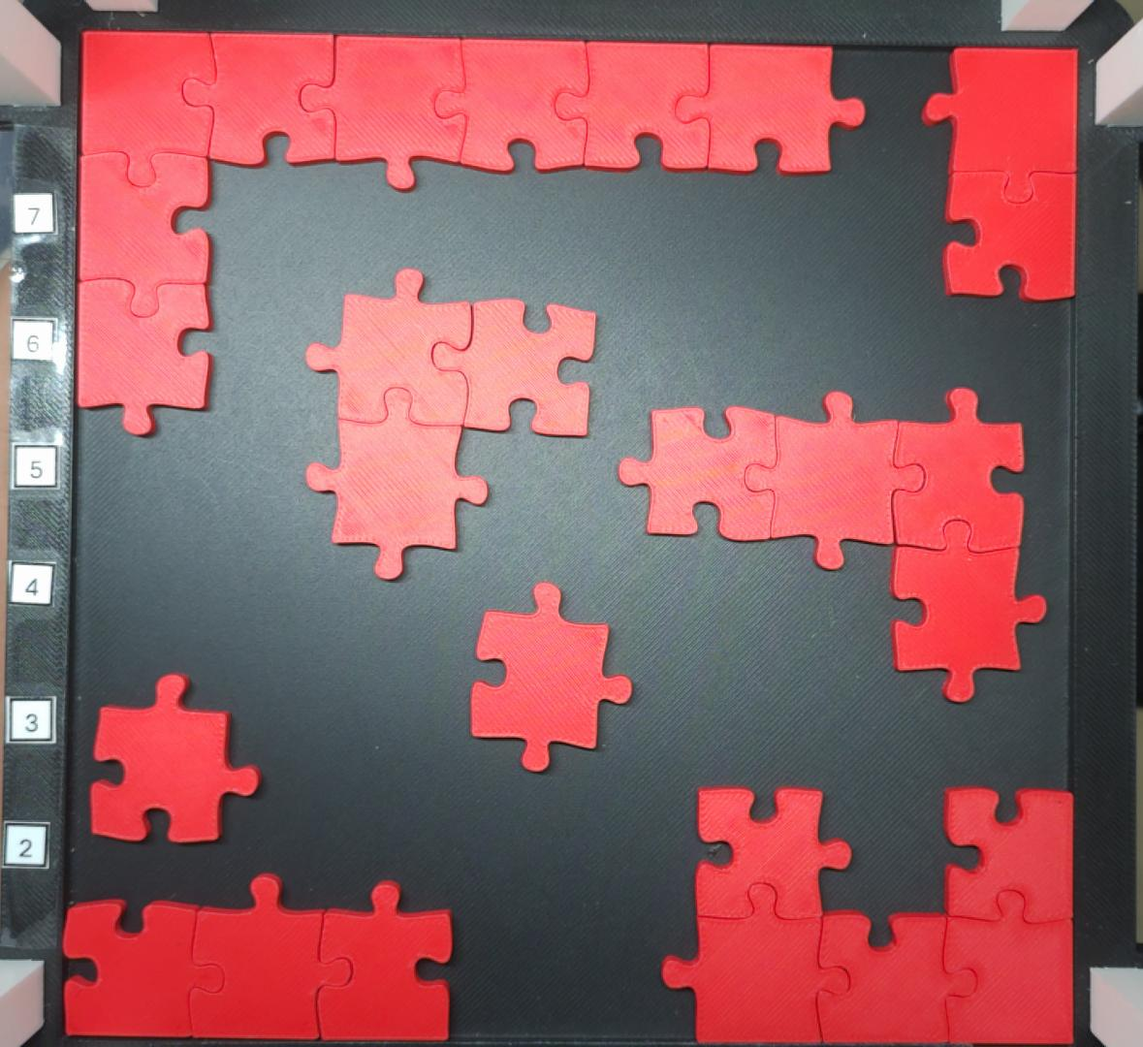p_1: (466, 580, 636, 775), (86, 670, 263, 846)
p_2: (920, 45, 1080, 303)
p_3: (303, 266, 597, 584), (58, 870, 455, 1043)
p_4: (616, 383, 1049, 706)
p_m: (73, 26, 869, 438), (659, 784, 1078, 1046)
